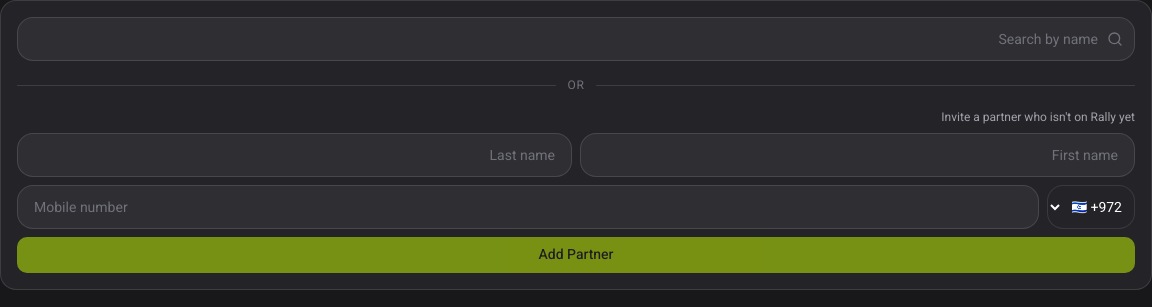
PartnerSection › disables the invite button until first/last name and a phone are filled in
Check: the button "Add Partner" is disabled, box [17,237,1135,273]
Type "Noa" into the field with placeholder "First name". click: (858, 155)
box: [580,133,1135,177]
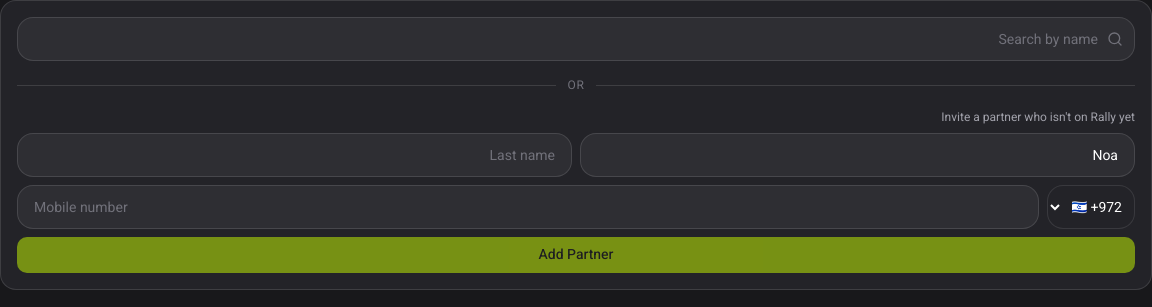
Type "Cohen" into the field with placeholder "Last name". click: (294, 155)
box: [17,133,572,177]
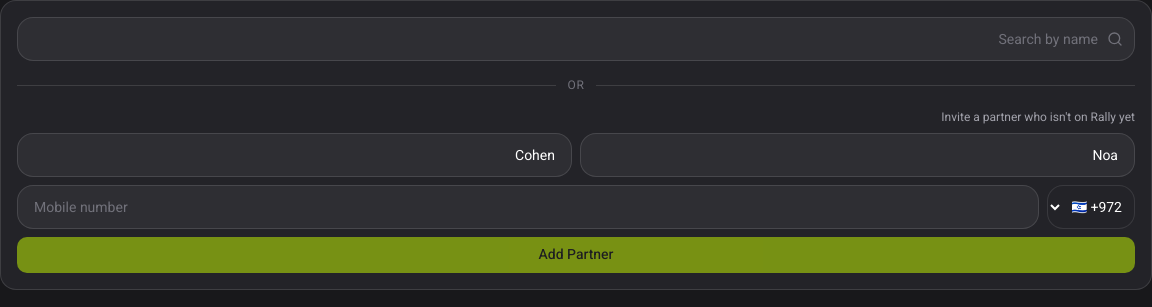
Check: the button "Add Partner" is disabled, box [17,237,1135,273]
Type "501234567" into the field with placeholder "Mobile number". click: (528, 207)
box: [17,185,1039,229]
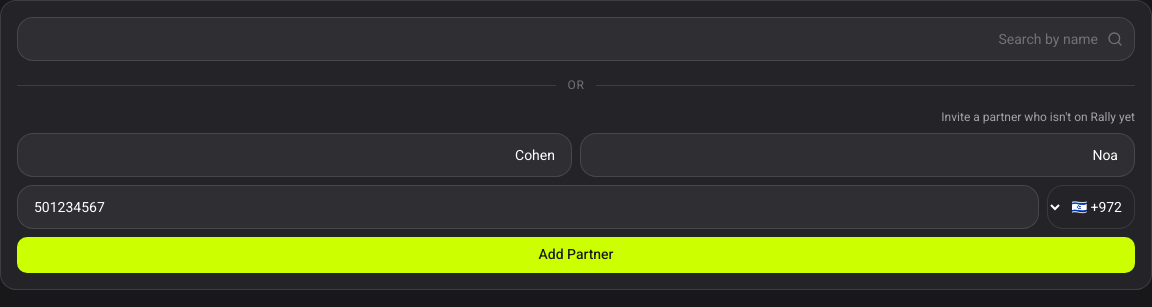
Check: the button "Add Partner" is enabled, box [17,237,1135,273]
